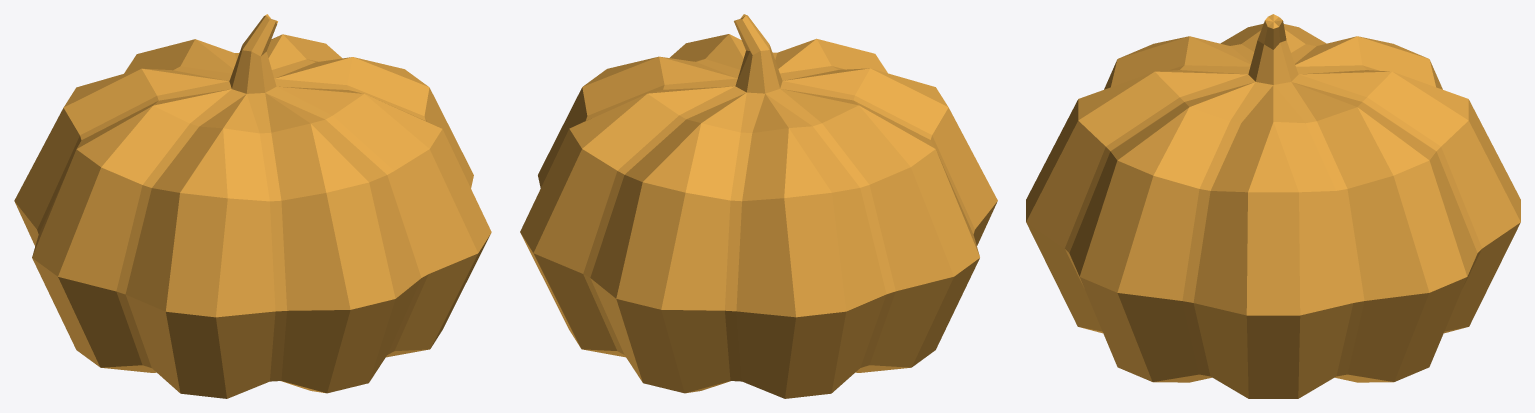
The model's file is pumpkin-a.fbx.
The picture shows the model from 3 angles, left to right: view 1: azimuth 30°, elevation 25°; view 2: azimuth 150°, elevation 25°; view 3: azimuth 270°, elevation 25°; orthographic projection. The views are drawn at different scales.
Parts seen in each view (by area): view 1: pumpkin-a; view 2: pumpkin-a; view 3: pumpkin-a.
Boxes of the visible parts, box(x1,y1,x2,y2) form: pumpkin-a: box(14, 14, 491, 398); pumpkin-a: box(520, 14, 997, 398); pumpkin-a: box(1026, 14, 1520, 398).
Size of the model in its own units: 0.6149 by 0.4658 by 0.6149.
